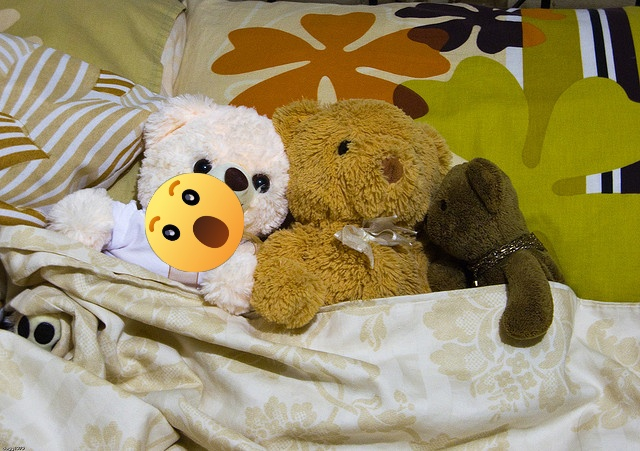wow: (145, 173, 244, 272)
